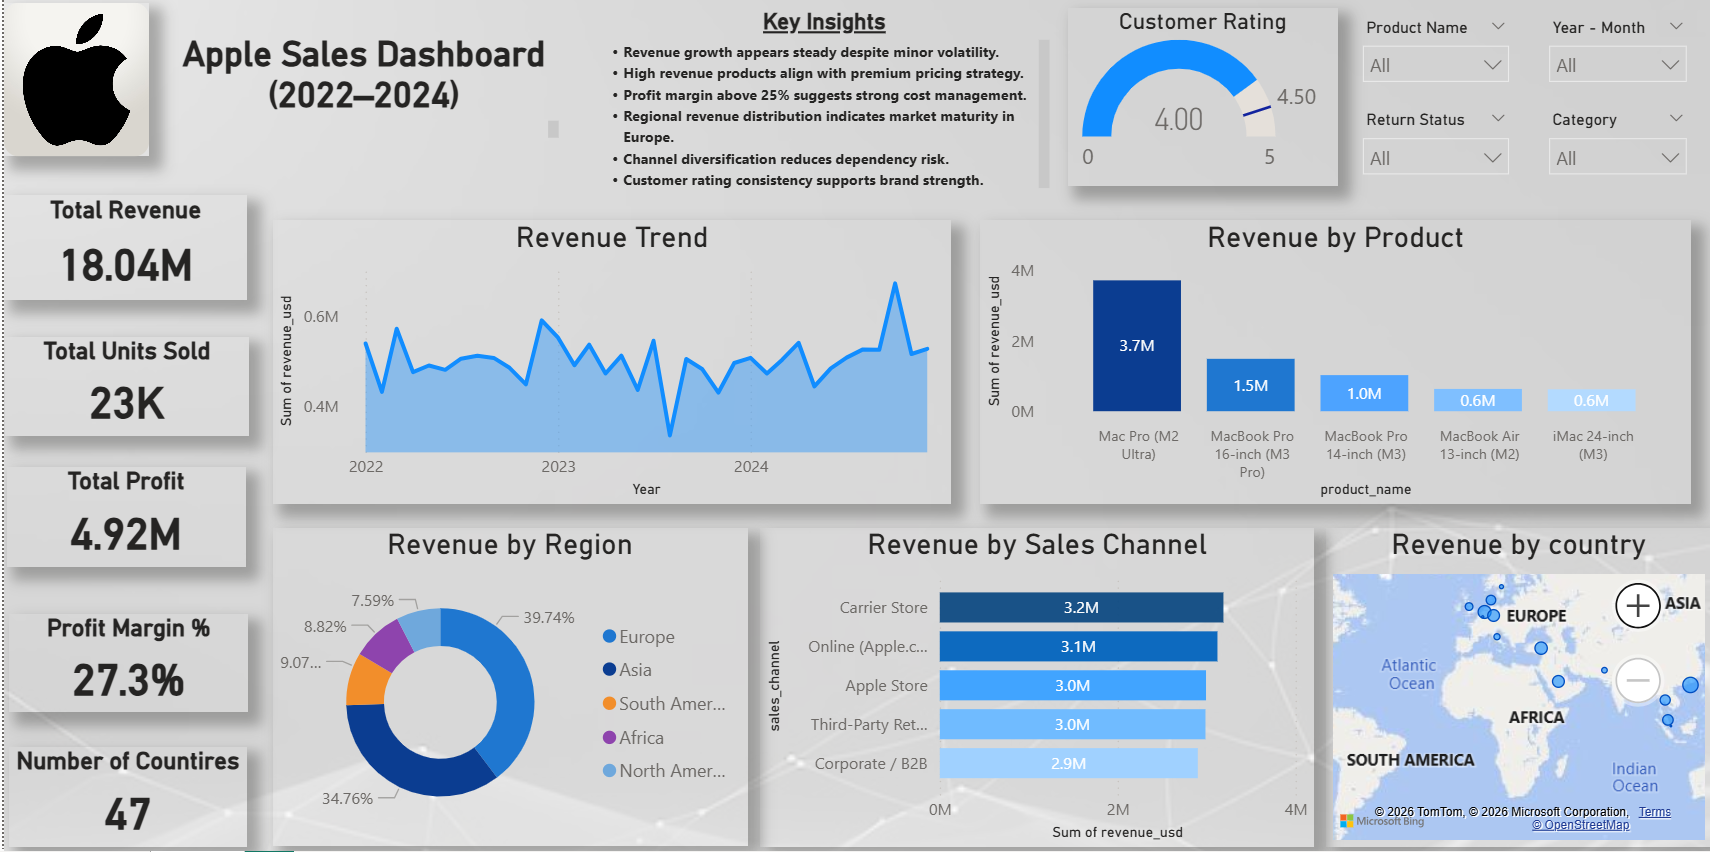

The page's visual inventory and layout, read from the dashboard file:
{"tool":"powerbi","page":{"name":"Page 1","canvas":[1280,720],"ordinal":0},"visuals":[{"type":"card","title":"Total Revenue","fields":{"Values":["apple_global_sales_dataset.Total Revenue"]},"box":[0,146.9,182.6,78.7],"z":0},{"type":"card","title":"Total Units Sold","fields":{"Values":["apple_global_sales_dataset.Total Unit Sold"]},"box":[1,252.9,182.6,74.5],"z":1000},{"type":"card","title":"Total Profit","fields":{"Values":["Sum(apple_global_sales_dataset.Profit)"]},"box":[2.1,350.5,179.4,75.6],"z":2000},{"type":"card","title":"Profit Margin %","fields":{"Values":["apple_global_sales_dataset.Profit Margin"]},"box":[4.2,460.7,179.4,73.5],"z":3000},{"type":"card","title":"Number of Countires","fields":{"Values":["Count(apple_global_sales_dataset.country)"]},"box":[4.2,560.4,178.4,75.6],"z":4000},{"type":"lineChart","title":"Revenue Trend","fields":{"Category":["apple_global_sales_dataset.sale_date.Variation.Date Hierarchy.Year","apple_global_sales_dataset.sale_date.Variation.Date Hierarchy.Month"],"Y":["Sum(apple_global_sales_dataset.revenue_usd)"]},"box":[201.5,165.8,508.9,213],"z":5000},{"type":"columnChart","title":"Revenue by Product","fields":{"Category":["apple_global_sales_dataset.product_name"],"Y":["Sum(apple_global_sales_dataset.revenue_usd)"],"Series":["apple_global_sales_dataset.product_name"]},"box":[731.9,165.8,532.9,213.2],"z":6000},{"type":"gauge","title":"Customer Rating","fields":{"Y":["Avg(apple_global_sales_dataset.customer_rating)"],"TargetValue":["apple_global_sales_dataset.Customer Rating Target"],"MinValue":["apple_global_sales_dataset.min rate"],"MaxValue":["apple_global_sales_dataset.max rate"]},"box":[797.5,6.3,202.5,133.3],"z":7000},{"type":"image","box":[0,3.1,109.1,115.4],"z":8000},{"type":"textbox","title":"Apple Sales Dashboard (2022–2024)","box":[109.1,5.2,322.2,113.3],"z":9000},{"type":"barChart","title":"Revenue by Sales Channel","fields":{"Category":["apple_global_sales_dataset.sales_channel"],"Y":["Sum(apple_global_sales_dataset.revenue_usd)"],"Series":["apple_global_sales_dataset.sales_channel"]},"box":[566.7,396.7,415.5,239.3],"z":10000},{"type":"donutChart","title":"Revenue by Region","fields":{"Category":["apple_global_sales_dataset.region"],"Y":["Sum(apple_global_sales_dataset.revenue_usd)"]},"box":[201.5,396.7,355.7,238.2],"z":11000},{"type":"slicer","fields":{"Values":["apple_global_sales_dataset.sale_date.Variation.Date Hierarchy.Year","apple_global_sales_dataset.sale_date.Variation.Date Hierarchy.Month"]},"box":[1148,9.4,123.8,60.9],"z":12000},{"type":"slicer","fields":{"Values":["apple_global_sales_dataset.product_name"]},"box":[1008.4,9.4,130.1,60.9],"z":13000},{"type":"slicer","fields":{"Values":["apple_global_sales_dataset.category"]},"box":[1148,78.7,123.8,59.8],"z":14000},{"type":"slicer","fields":{"Values":["apple_global_sales_dataset.return_status"]},"box":[1008.4,78.7,130.1,60.9],"z":15000},{"type":"map","title":"Revenue by country","fields":{"Category":["apple_global_sales_dataset.country"],"Size":["Sum(apple_global_sales_dataset.revenue_usd)"]},"box":[991.6,396.7,288.6,239.3],"z":16000},{"type":"textbox","title":"Key Insights","box":[441.8,6.3,347.3,149],"z":17000}]}

Visuals, with their boxes on the page's 1280x720 design canvas (x1, y1, x2, y2). These are canvas units, not pixel positions in the 1710x852 screenshot, which may show the page scaled, cropped or inside an application window:
"Total Revenue" card: bbox=[0, 147, 183, 226]
"Total Units Sold" card: bbox=[1, 253, 184, 327]
"Total Profit" card: bbox=[2, 350, 182, 426]
"Profit Margin %" card: bbox=[4, 461, 184, 534]
"Number of Countires" card: bbox=[4, 560, 183, 636]
"Revenue Trend" lineChart: bbox=[202, 166, 710, 379]
"Revenue by Product" columnChart: bbox=[732, 166, 1265, 379]
"Customer Rating" gauge: bbox=[798, 6, 1000, 140]
image: bbox=[0, 3, 109, 118]
"Apple Sales Dashboard (2022–2024)" textbox: bbox=[109, 5, 431, 118]
"Revenue by Sales Channel" barChart: bbox=[567, 397, 982, 636]
"Revenue by Region" donutChart: bbox=[202, 397, 557, 635]
slicer - apple_global_sales_dataset.sale_date.Variation.Date Hierarchy.Year x apple_global_sales_dataset.sale_date.Variation.Date Hierarchy.Month: bbox=[1148, 9, 1272, 70]
slicer - apple_global_sales_dataset.product_name: bbox=[1008, 9, 1138, 70]
slicer - apple_global_sales_dataset.category: bbox=[1148, 79, 1272, 138]
slicer - apple_global_sales_dataset.return_status: bbox=[1008, 79, 1138, 140]
"Revenue by country" map: bbox=[992, 397, 1280, 636]
"Key Insights" textbox: bbox=[442, 6, 789, 155]
